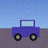vehicle: (12, 20, 39, 41)
